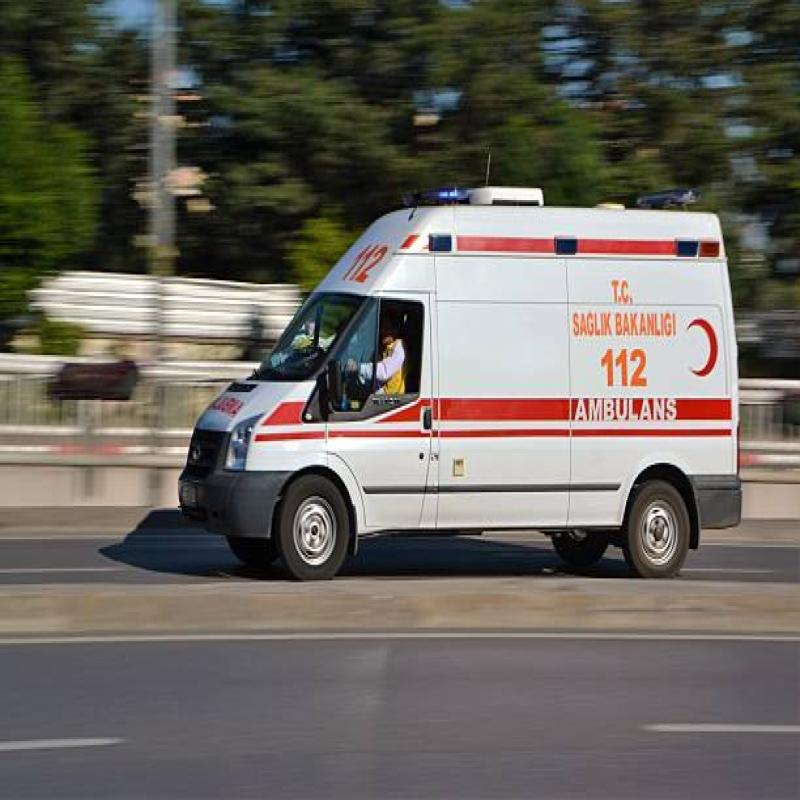ambulance: (167, 134, 749, 594)
